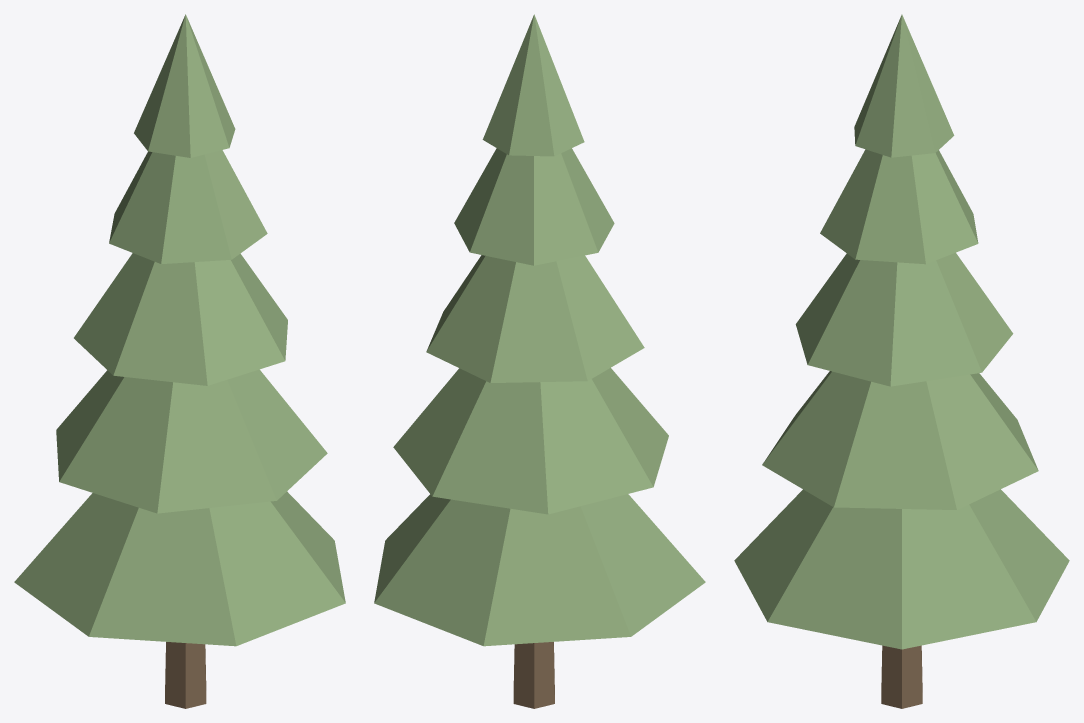
Rendered from larch.glb.
The picture shows the model from 3 angles, left to right: view 1: azimuth 30°, elevation 25°; view 2: azimuth 150°, elevation 25°; view 3: azimuth 270°, elevation 25°; orthographic projection.
Visible parts, largest first — view 1: larch; view 2: larch; view 3: larch.
Boxes of the visible parts, box(x1,y1,x2,y2) form: larch: box(14, 14, 345, 708); larch: box(374, 14, 705, 708); larch: box(734, 14, 1069, 708).
Size of the model in its own units: 2.19 by 5.05 by 2.24.
